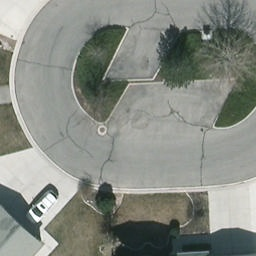car: (23, 189, 61, 227)
